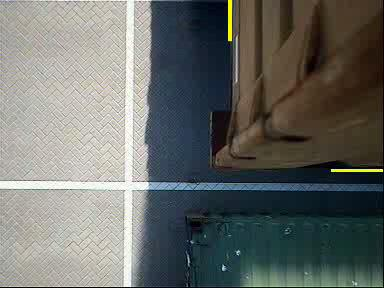groundmarker_2: (127, 143, 205, 202)
